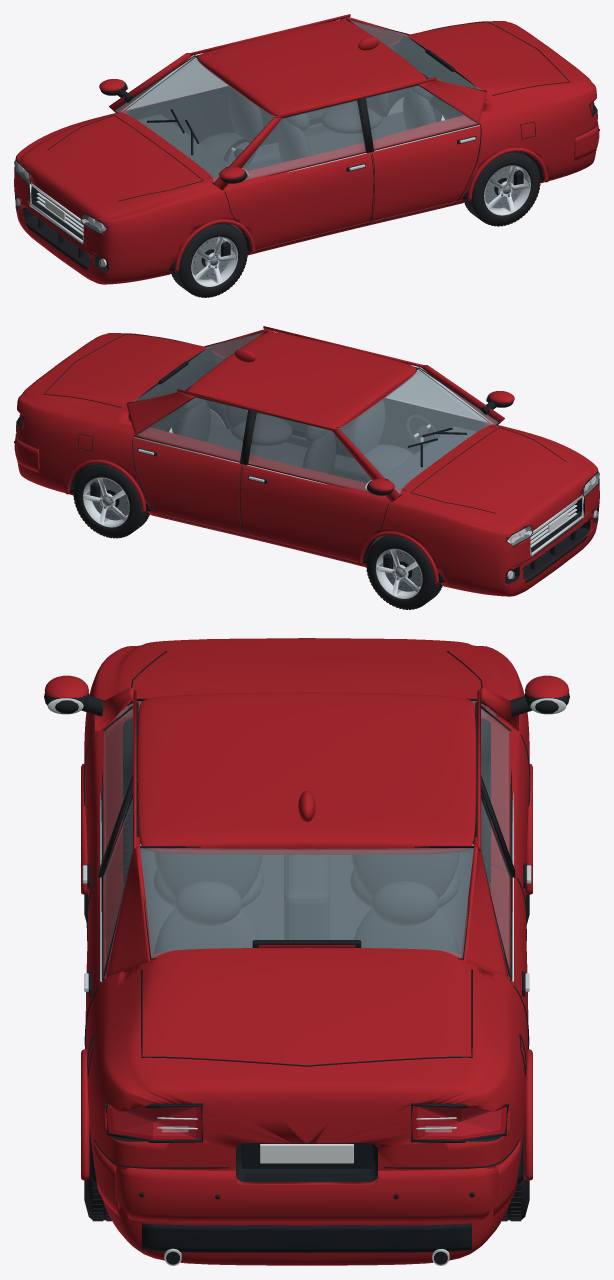
The model's file is story-sedan.glb.
3 views of the same model, one above another, from view 1: azimuth 30°, elevation 25°; view 2: azimuth 150°, elevation 25°; view 3: azimuth 270°, elevation 25° (orthographic). The views are drawn at different scales.
Parts seen in each view (by area): view 1: SedanRoot_Geometry, Sedan_Door_Rear_L_Pivot_Geometry, Sedan_Wheel_Rear_L_Geometry, Sedan_Wheel_Front_L_Geometry, Sedan_Door_Rear_R_Pivot_Geometry, Sedan_Wheel_Rear_R_Geometry; view 2: SedanRoot_Geometry, Sedan_Door_Rear_R_Pivot_Geometry, Sedan_Wheel_Front_R_Geometry, Sedan_Wheel_Rear_R_Geometry, Sedan_Door_Rear_L_Pivot_Geometry, Sedan_Wheel_Rear_L_Geometry; view 3: SedanRoot_Geometry, Sedan_Door_Rear_R_Pivot_Geometry, Sedan_Door_Rear_L_Pivot_Geometry, Sedan_Wheel_Rear_L_Geometry, Sedan_Wheel_Rear_R_Geometry.
Boxes of the visible parts, <box> form: SedanRoot_Geometry: <box>14,14,599,284</box>; Sedan_Door_Rear_L_Pivot_Geometry: <box>365,84,481,223</box>; Sedan_Wheel_Rear_L_Geometry: <box>464,151,540,226</box>; Sedan_Wheel_Front_L_Geometry: <box>171,223,247,297</box>; Sedan_Door_Rear_R_Pivot_Geometry: <box>273,100,358,142</box>; Sedan_Wheel_Rear_R_Geometry: <box>384,88,442,121</box>; SedanRoot_Geometry: <box>14,326,599,596</box>; Sedan_Door_Rear_R_Pivot_Geometry: <box>132,396,248,535</box>; Sedan_Wheel_Front_R_Geometry: <box>366,535,442,609</box>; Sedan_Wheel_Rear_R_Geometry: <box>73,463,149,538</box>; Sedan_Door_Rear_L_Pivot_Geometry: <box>255,412,340,454</box>; Sedan_Wheel_Rear_L_Geometry: <box>171,400,229,433</box>; SedanRoot_Geometry: <box>44,638,569,1265</box>; Sedan_Door_Rear_R_Pivot_Geometry: <box>475,783,529,1048</box>; Sedan_Door_Rear_L_Pivot_Geometry: <box>84,783,138,1048</box>; Sedan_Wheel_Rear_L_Geometry: <box>84,1126,111,1221</box>; Sedan_Wheel_Rear_R_Geometry: <box>502,1126,529,1221</box>.
Size of the model in its own units: 4.84 by 1.55 by 2.18.
Materials: 15 (10 with a texture image).
